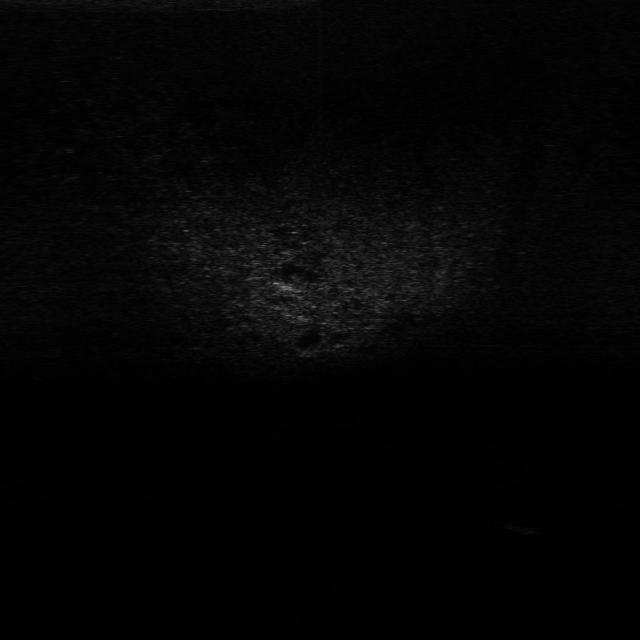cylinder: (496, 518, 543, 536)
